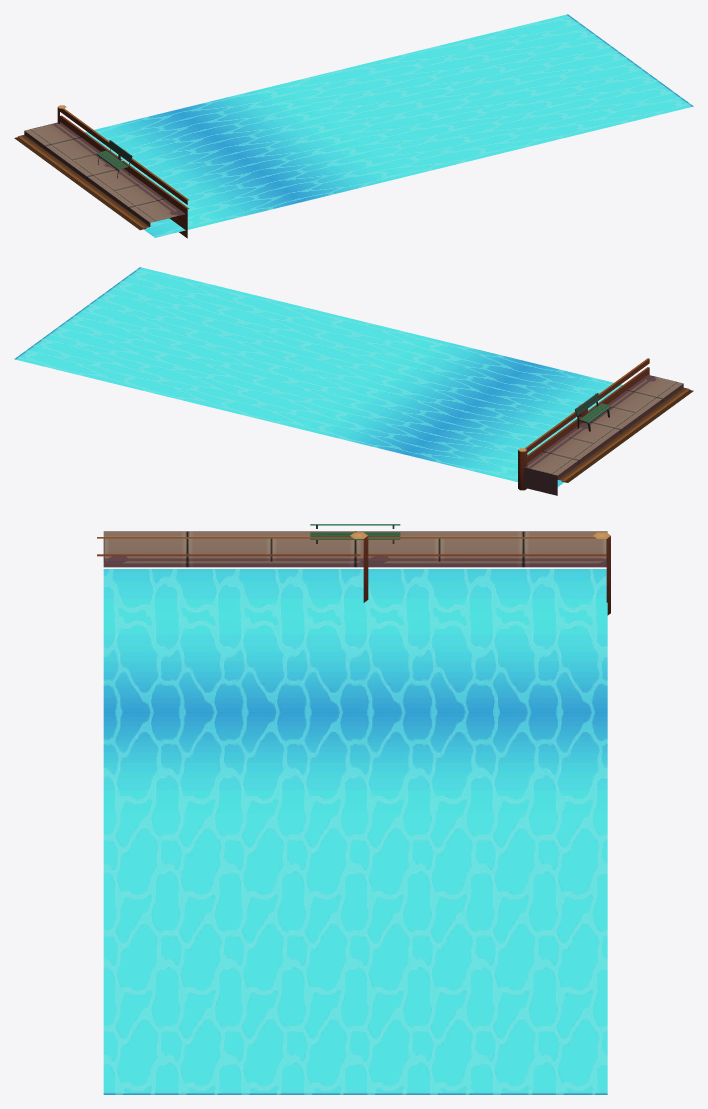
File: 1.100_SanFrancisco_high_03_left.glb
3 views of the same model, one above another, from view 1: azimuth 30°, elevation 25°; view 2: azimuth 150°, elevation 25°; view 3: azimuth 270°, elevation 25° (orthographic). The views are drawn at different scales.
Parts seen in each view (by area): view 1: 1.100_SanFrancisco_high_03_left; view 2: 1.100_SanFrancisco_high_03_left; view 3: 1.100_SanFrancisco_high_03_left.
Boxes of the visible parts, x1,y1,x2,y2 form: 1.100_SanFrancisco_high_03_left: [14, 14, 693, 238]; 1.100_SanFrancisco_high_03_left: [14, 267, 693, 495]; 1.100_SanFrancisco_high_03_left: [97, 524, 610, 1094].
Size of the model in its own units: 457 by 34.4 by 184.
2 materials, 2 textured.
